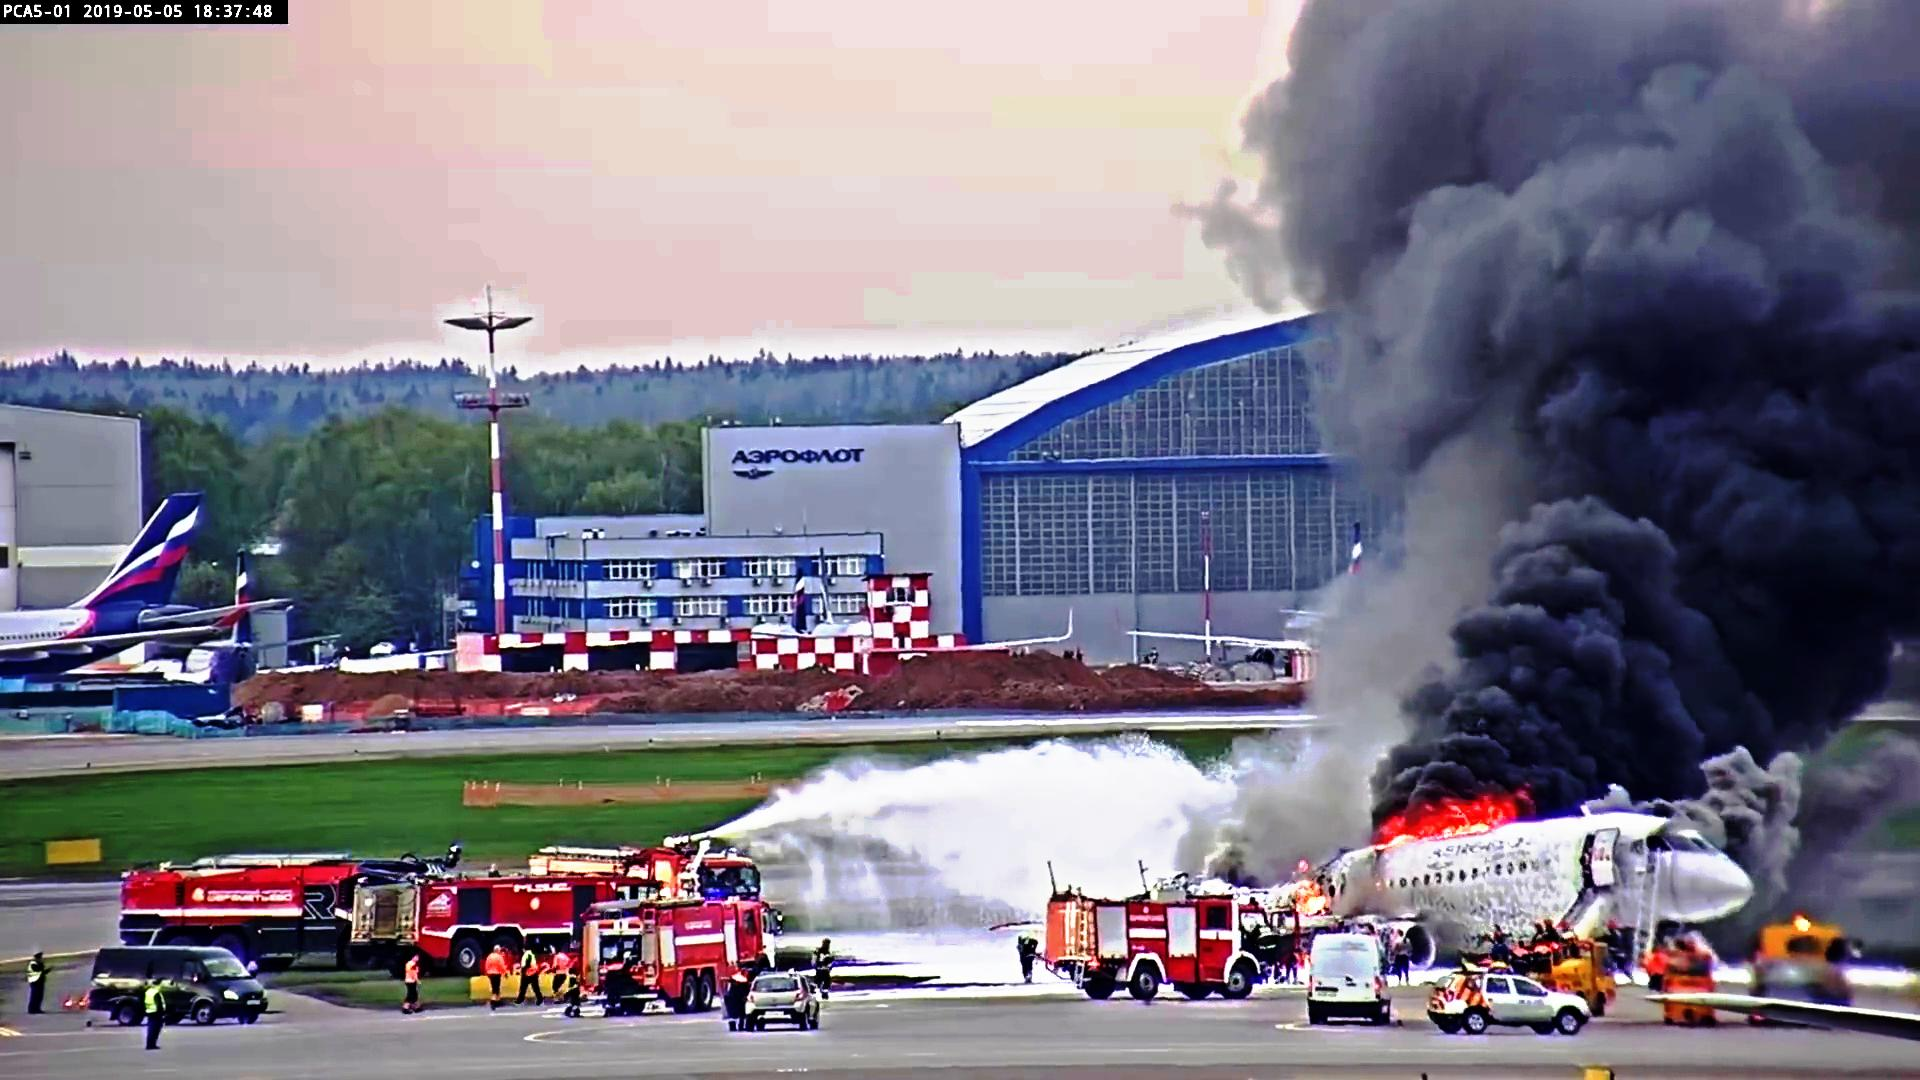fire: (1366, 778, 1524, 844)
smoke: (1389, 309, 1920, 786)
